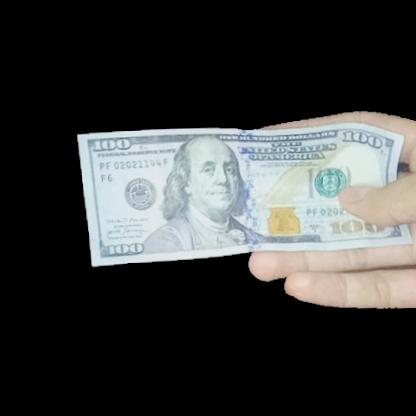one_hundred-front: (71, 118, 408, 264)
